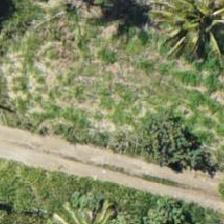coconut_tree: (155, 0, 223, 56)
